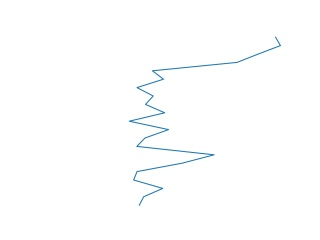crevasseRiverChannelBar: (127, 33, 288, 206)
